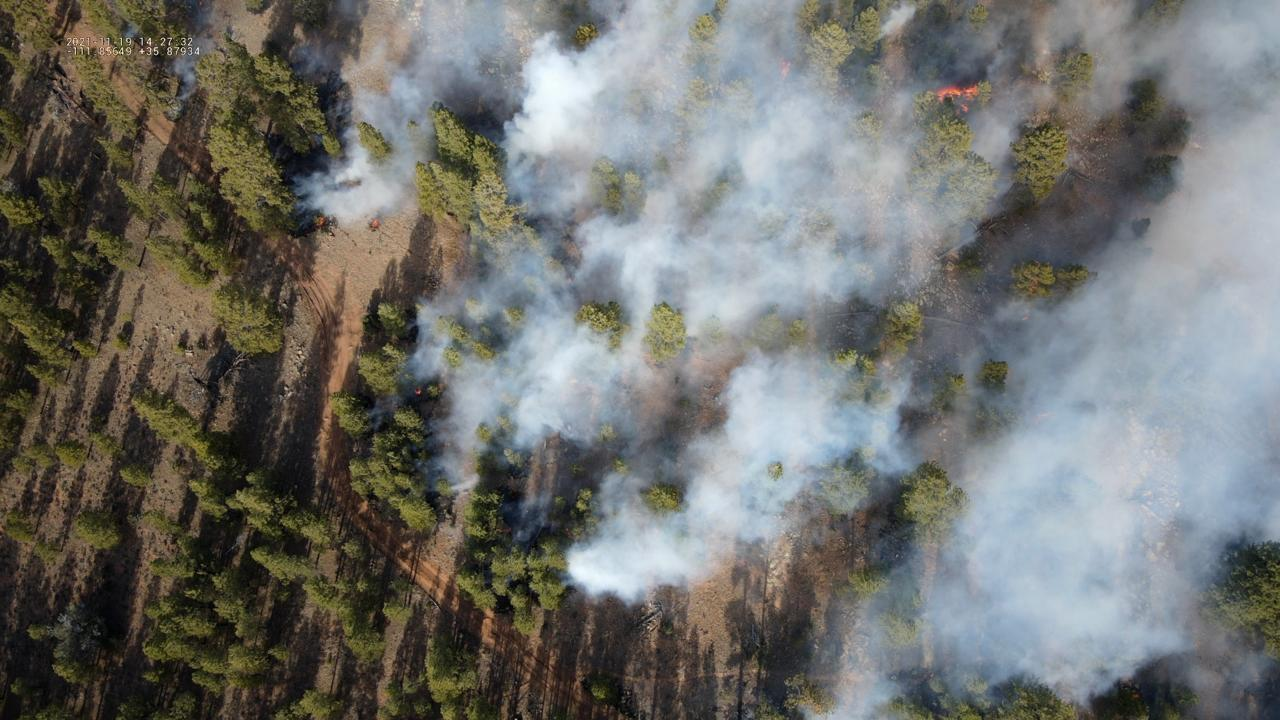fire: (934, 84, 978, 117), (778, 57, 792, 81), (413, 385, 424, 396), (371, 217, 379, 230), (317, 215, 324, 226), (1020, 315, 1029, 323), (197, 0, 206, 7)
smoke: (286, 0, 1280, 720), (167, 56, 201, 104), (190, 0, 216, 32), (123, 25, 140, 37)
